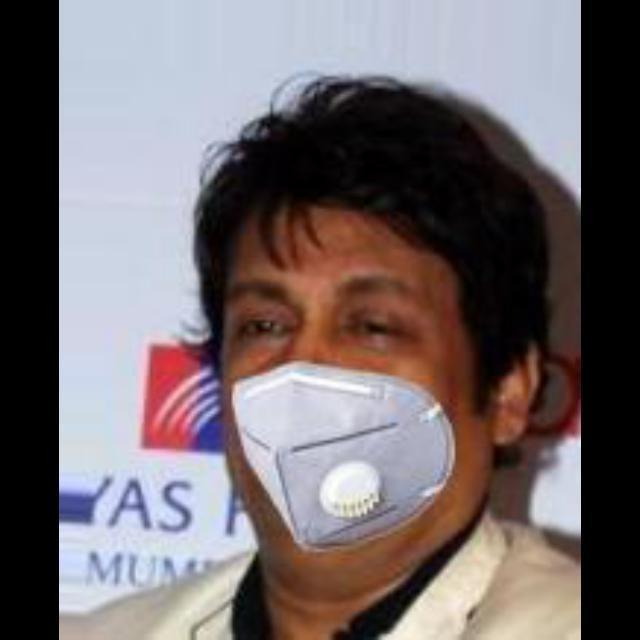1_mascarilla: (229, 364, 454, 557)
